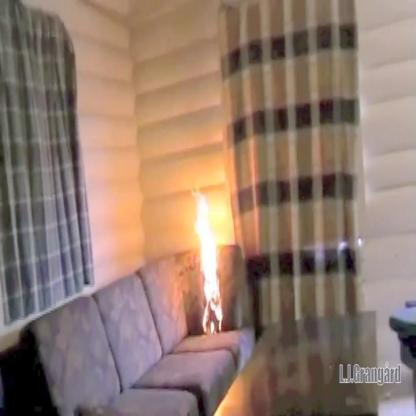fire: (188, 184, 229, 344)
